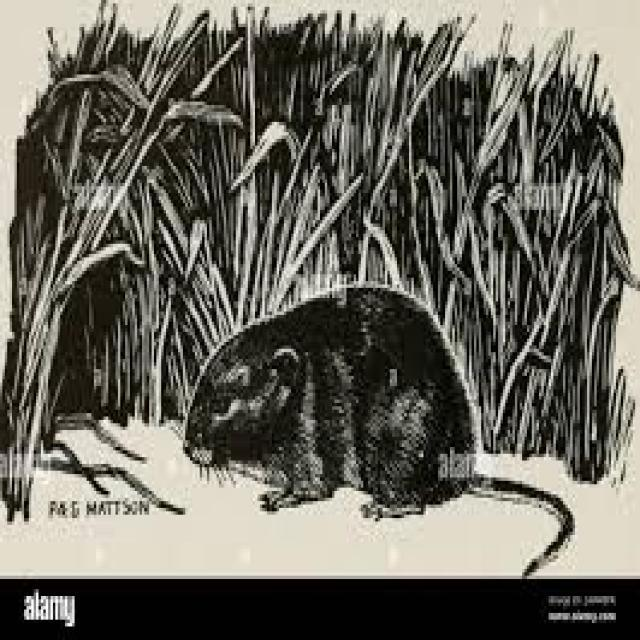Rat: (161, 289, 562, 534)
